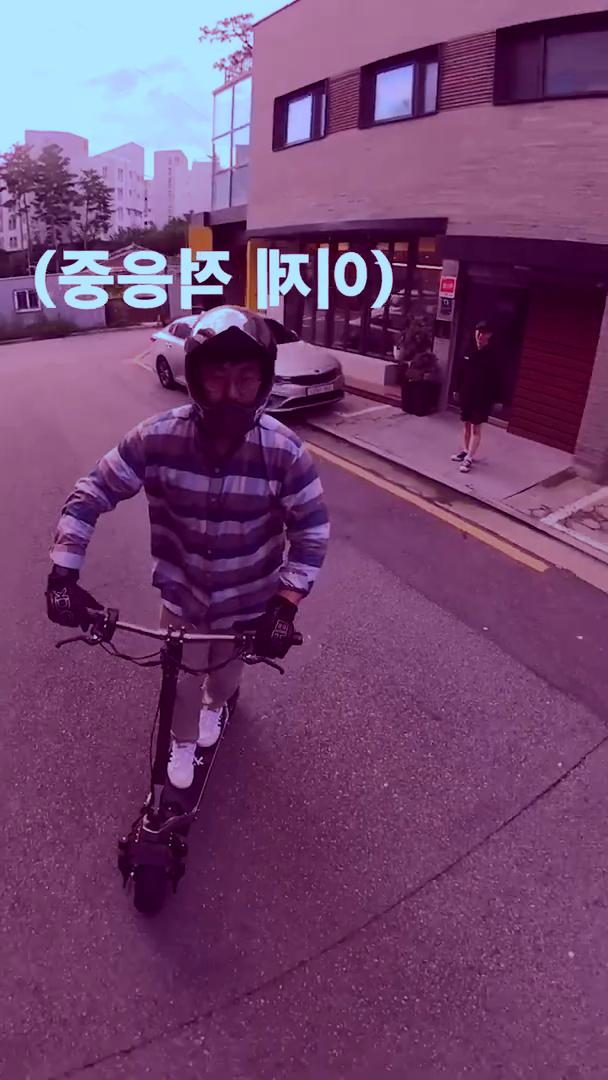helmet: (39, 304, 335, 919)
